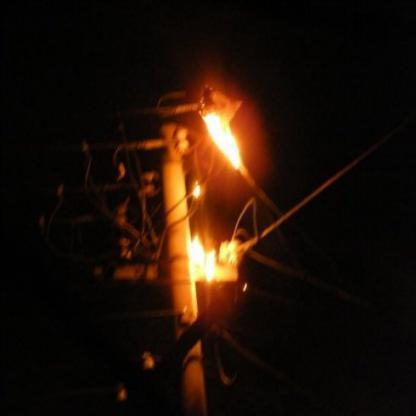fire: (200, 92, 249, 173), (176, 235, 244, 284)
